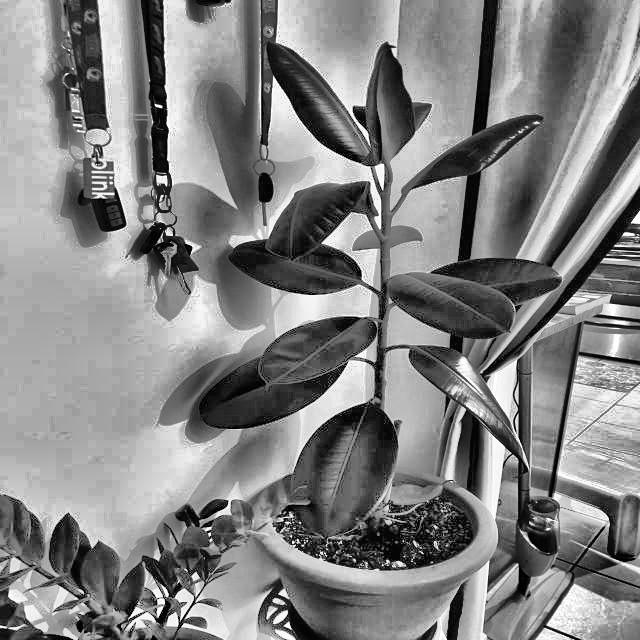plants: (296, 87, 486, 500), (44, 539, 230, 637)
